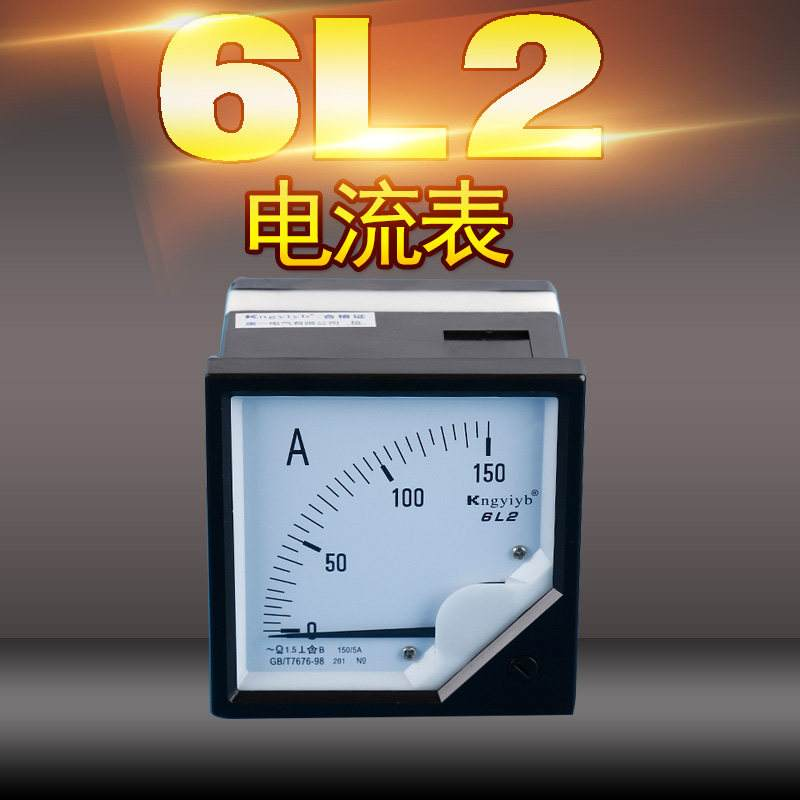pointer: (231, 393, 555, 689)
